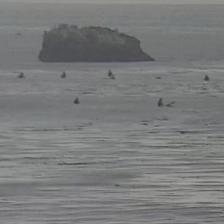surfer: (157, 97, 164, 106), (18, 72, 26, 79), (203, 74, 210, 81), (72, 98, 80, 104), (108, 69, 113, 77), (60, 72, 66, 78)
